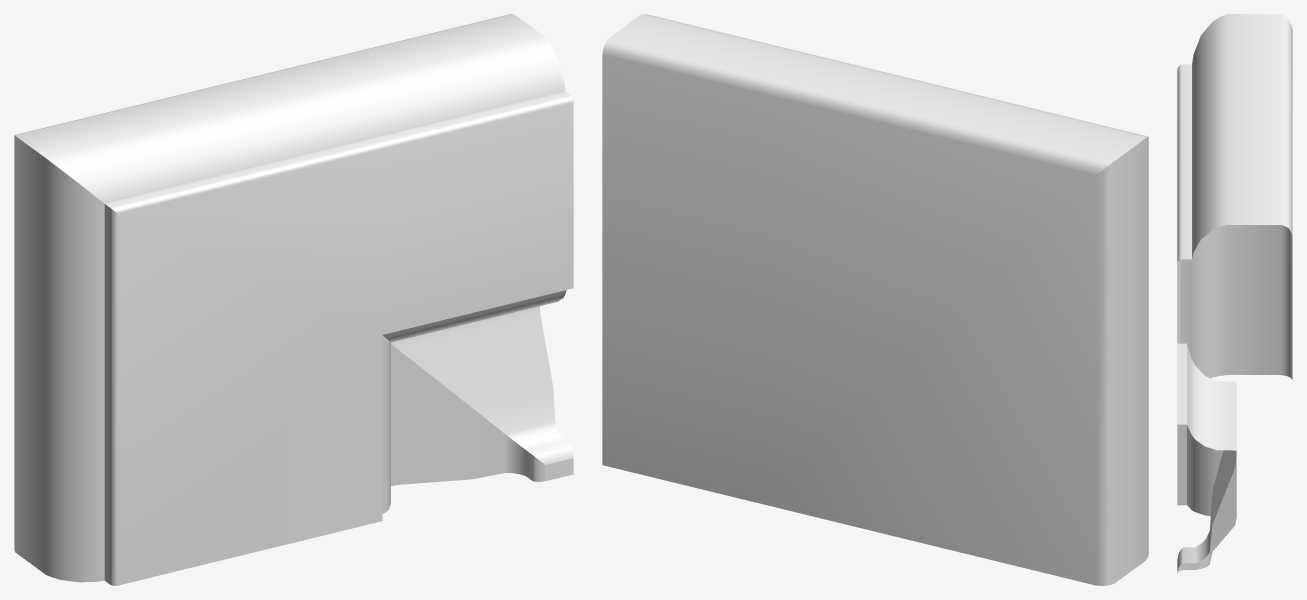
The model's file is original-37.obj.
3 renders of one model, left to right at view 1: azimuth 30°, elevation 25°; view 2: azimuth 150°, elevation 25°; view 3: azimuth 270°, elevation 25°, orthographic. The views are drawn at different scales.
Parts seen in each view (by area): view 1: DF_11_TL1/DF_11_TL/mesh24/mesh24-geometry#mesh24-geometry; view 2: DF_11_TL1/DF_11_TL/mesh24/mesh24-geometry#mesh24-geometry; view 3: DF_11_TL1/DF_11_TL/mesh24/mesh24-geometry#mesh24-geometry.
Part boxes in pixels (x1,y1,x2,y2): DF_11_TL1/DF_11_TL/mesh24/mesh24-geometry#mesh24-geometry: (14,14,573,585); DF_11_TL1/DF_11_TL/mesh24/mesh24-geometry#mesh24-geometry: (602,14,1148,585); DF_11_TL1/DF_11_TL/mesh24/mesh24-geometry#mesh24-geometry: (1177,14,1292,573).
Bounding box in the file's own units: 0.1169 × 0.0933 × 0.027.
